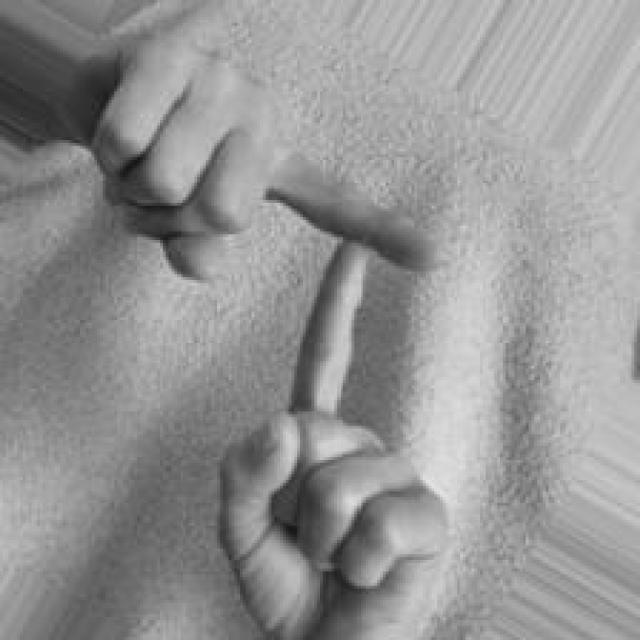T: (95, 27, 458, 640)
